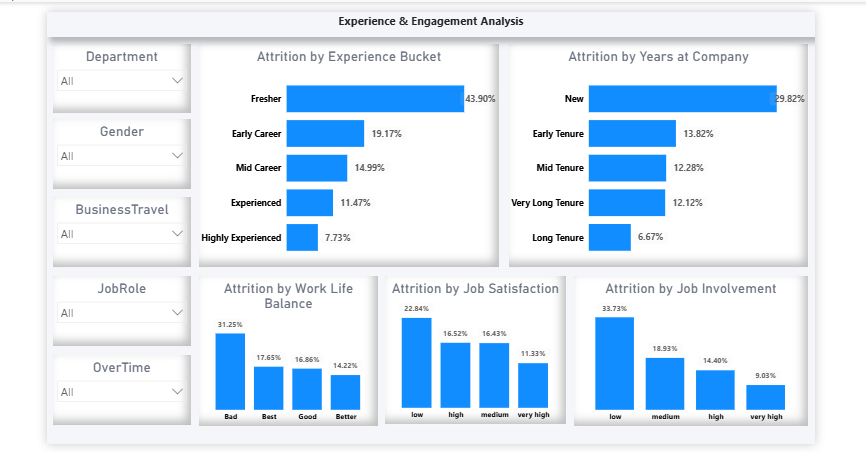

What the dashboard file says about the page in this screenshot:
{"tool":"powerbi","page":{"name":"Experience, Engagement & Work Conditions","canvas":[1280,720],"ordinal":2},"visuals":[{"type":"clusteredBarChart","title":"Attrition by Years at Company","fields":{"Category":["hr_attrition_cleaned.YearsAtCompany_Bucket"],"Y":["hr_attrition_cleaned.Attrition Rate (%)"]},"box":[770,53.3,500,371],"z":0},{"type":"columnChart","title":"Attrition by Job Satisfaction","fields":{"Y":["hr_attrition_cleaned.Attrition Rate (%)"],"Category":["hr_attrition_cleaned.JobSatisfaction_bucket"]},"box":[563.3,440,301.7,246.7],"z":1000},{"type":"columnChart","title":"Attrition by Work Life Balance","fields":{"Y":["hr_attrition_cleaned.Attrition Rate (%)"],"Category":["hr_attrition_cleaned.WorkLifeBalance_bucket"]},"box":[253.3,440,298.3,250],"z":2000},{"type":"columnChart","title":"Attrition by Job Involvement","fields":{"Category":["hr_attrition_cleaned.JobInvolvement_bucket"],"Y":["hr_attrition_cleaned.Attrition Rate (%)"]},"box":[878.3,440,380,250],"z":3000},{"type":"clusteredBarChart","title":"Attrition by Experience Bucket","fields":{"Category":["hr_attrition_cleaned.Experience_Bucket"],"Y":["hr_attrition_cleaned.Attrition Rate (%)"]},"box":[252.9,52.9,500,371.4],"z":4000},{"type":"slicer","title":"Department","fields":{"Values":["hr_attrition_cleaned.Department"]},"box":[10,52.9,230,115],"z":4001},{"type":"slicer","title":"Gender","fields":{"Values":["hr_attrition_cleaned.Gender"]},"box":[10,178.6,230,115.7],"z":4002},{"type":"slicer","title":" BusinessTravel","fields":{"Values":["hr_attrition_cleaned.BusinessTravel"]},"box":[10,308.6,230,115.7],"z":4003},{"type":"slicer","title":" JobRole","fields":{"Values":["hr_attrition_cleaned.JobRole"]},"box":[10,440,230,115.7],"z":4004},{"type":"slicer","title":" OverTime","fields":{"Values":["hr_attrition_cleaned.OverTime"]},"box":[10,571.4,230,115.7],"z":4005},{"type":"textbox","box":[0,0,1280,41],"z":4006}]}

Visuals, with their boxes on the page's 1280x720 design canvas (x1, y1, x2, y2). These are canvas units, not pixel positions in the 866x452 screenshot, which may show the page scaled, cropped or inside an application window:
"Attrition by Years at Company" clusteredBarChart: [left=770, top=53, right=1270, bottom=424]
"Attrition by Job Satisfaction" columnChart: [left=563, top=440, right=865, bottom=687]
"Attrition by Work Life Balance" columnChart: [left=253, top=440, right=552, bottom=690]
"Attrition by Job Involvement" columnChart: [left=878, top=440, right=1258, bottom=690]
"Attrition by Experience Bucket" clusteredBarChart: [left=253, top=53, right=753, bottom=424]
"Department" slicer: [left=10, top=53, right=240, bottom=168]
"Gender" slicer: [left=10, top=179, right=240, bottom=294]
" BusinessTravel" slicer: [left=10, top=309, right=240, bottom=424]
" JobRole" slicer: [left=10, top=440, right=240, bottom=556]
" OverTime" slicer: [left=10, top=571, right=240, bottom=687]
textbox: [left=0, top=0, right=1280, bottom=41]
